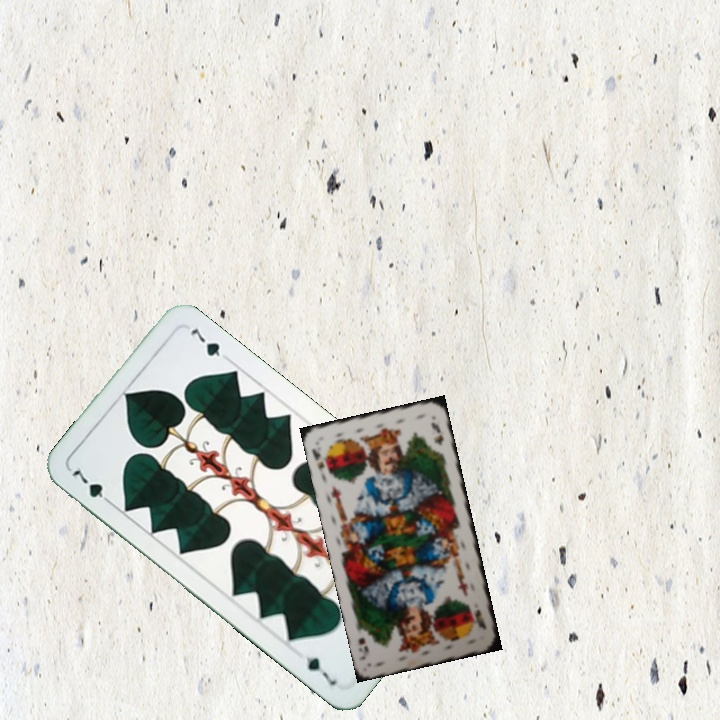G7: (67, 465, 116, 509)
SK: (308, 445, 333, 480), (471, 605, 489, 632)
